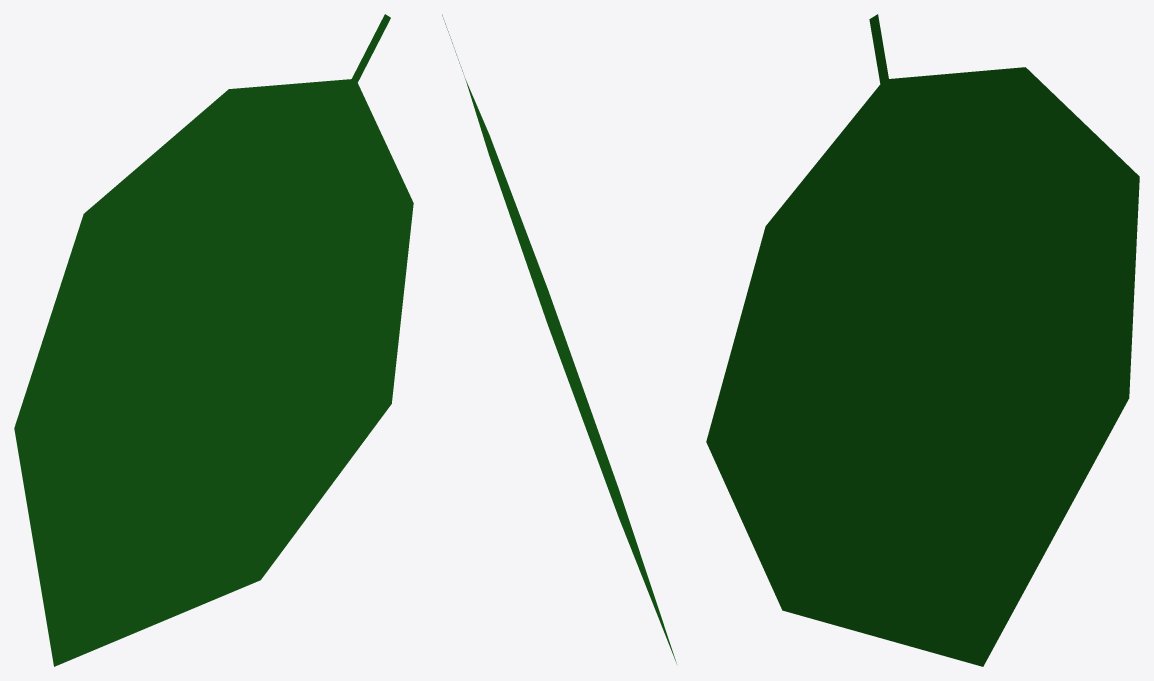
File: Leaves.033.obj
The picture shows the model from 3 angles, left to right: view 1: azimuth 30°, elevation 25°; view 2: azimuth 150°, elevation 25°; view 3: azimuth 270°, elevation 25°; orthographic projection. The views are drawn at different scales.
Visible parts, largest first — view 1: Leaves.033_leaves.033; view 2: Leaves.033_leaves.033; view 3: Leaves.033_leaves.033.
Part boxes in pixels (box(x1,y1,x2,y2)): Leaves.033_leaves.033: box(14, 14, 413, 666); Leaves.033_leaves.033: box(442, 14, 676, 663); Leaves.033_leaves.033: box(706, 14, 1139, 666).
Size of the model in its own units: 0.0679 by 0.1333 by 0.0613.
